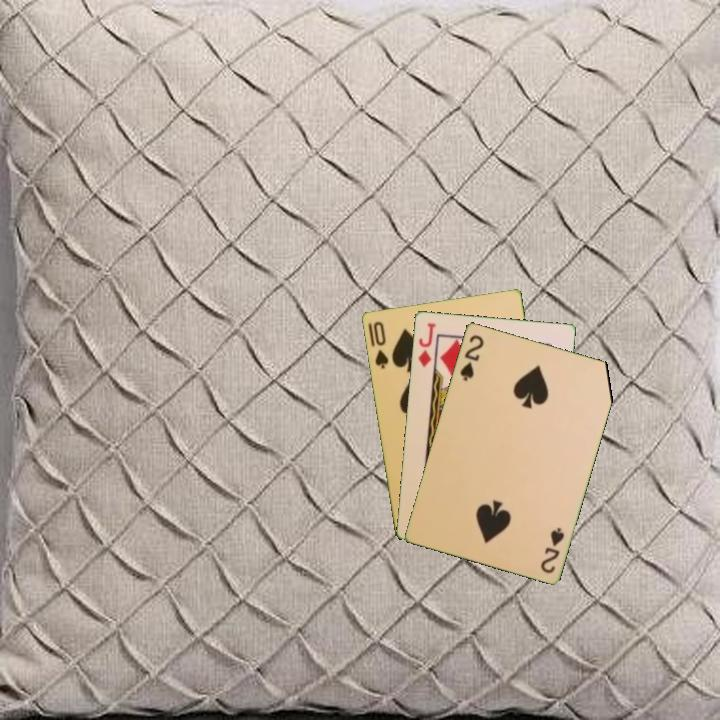10s: (369, 318, 391, 371)
2s: (456, 331, 487, 383), (537, 524, 567, 576)
Jd: (414, 319, 438, 370)
